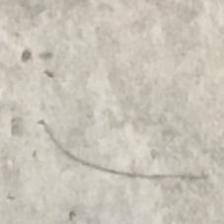Non_Crack: (35, 26, 193, 155)
